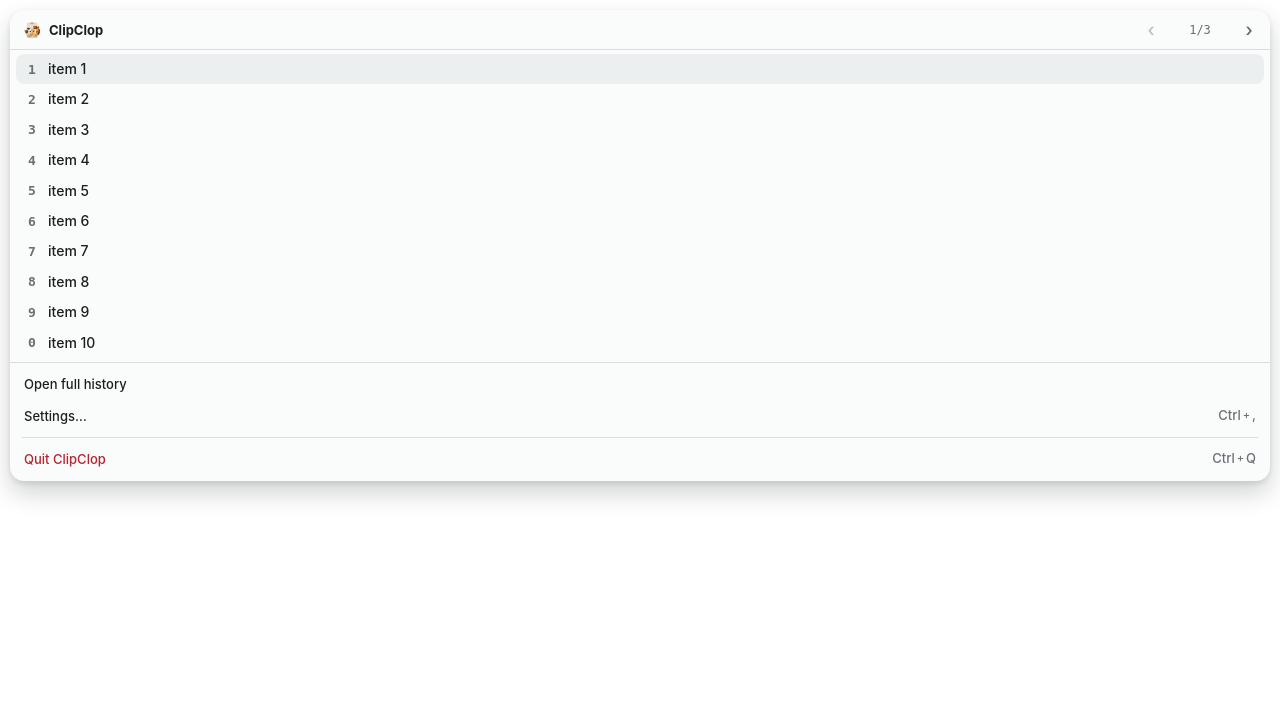
Test: QuickPanel pagination › pages through 23 items and leaves seven inert slots on the last page
Check: the text "item 1" is shown, box x1=48 y1=58 x2=86 y2=80
Click the button named "Next page". click: (1249, 30)
box: x1=1236 y1=16 x2=1262 y2=42
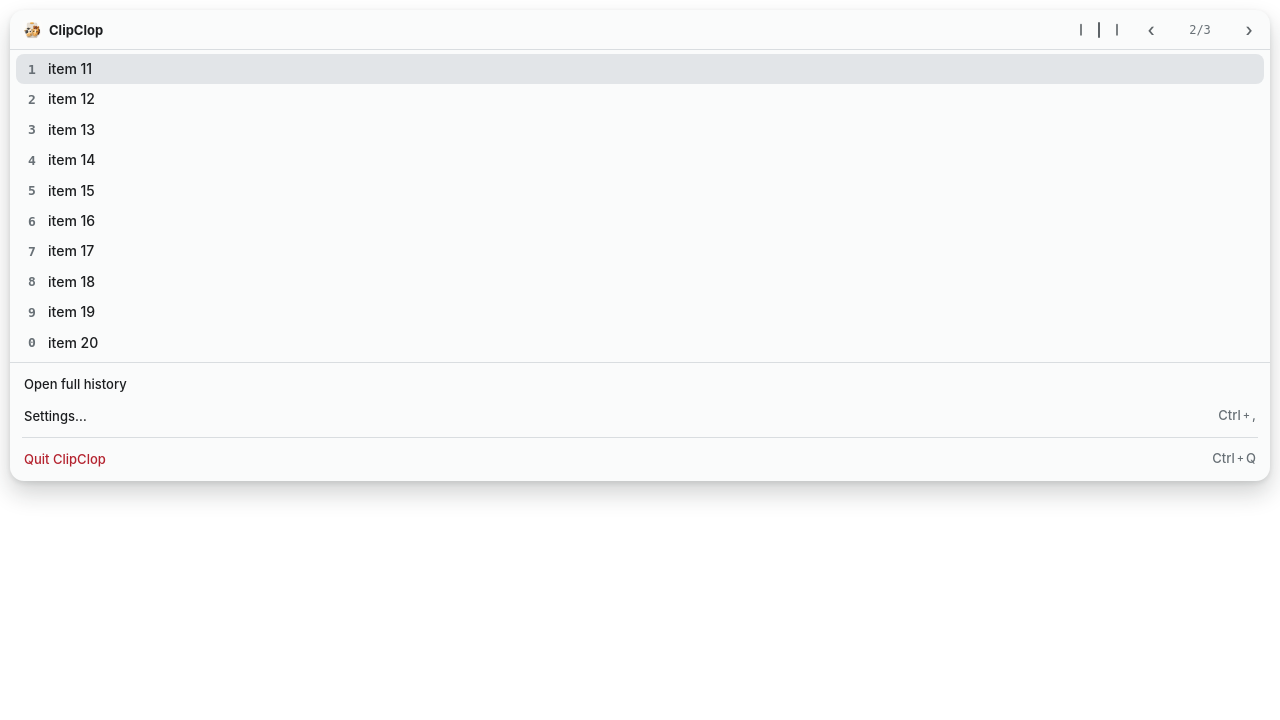
Check: the text "item 11" is shown, box x1=48 y1=58 x2=92 y2=80
Check: the text "2/3" is shown, box x1=1189 y1=22 x2=1211 y2=36
Click the button named "Next page". click: (1249, 30)
box: x1=1236 y1=16 x2=1262 y2=42
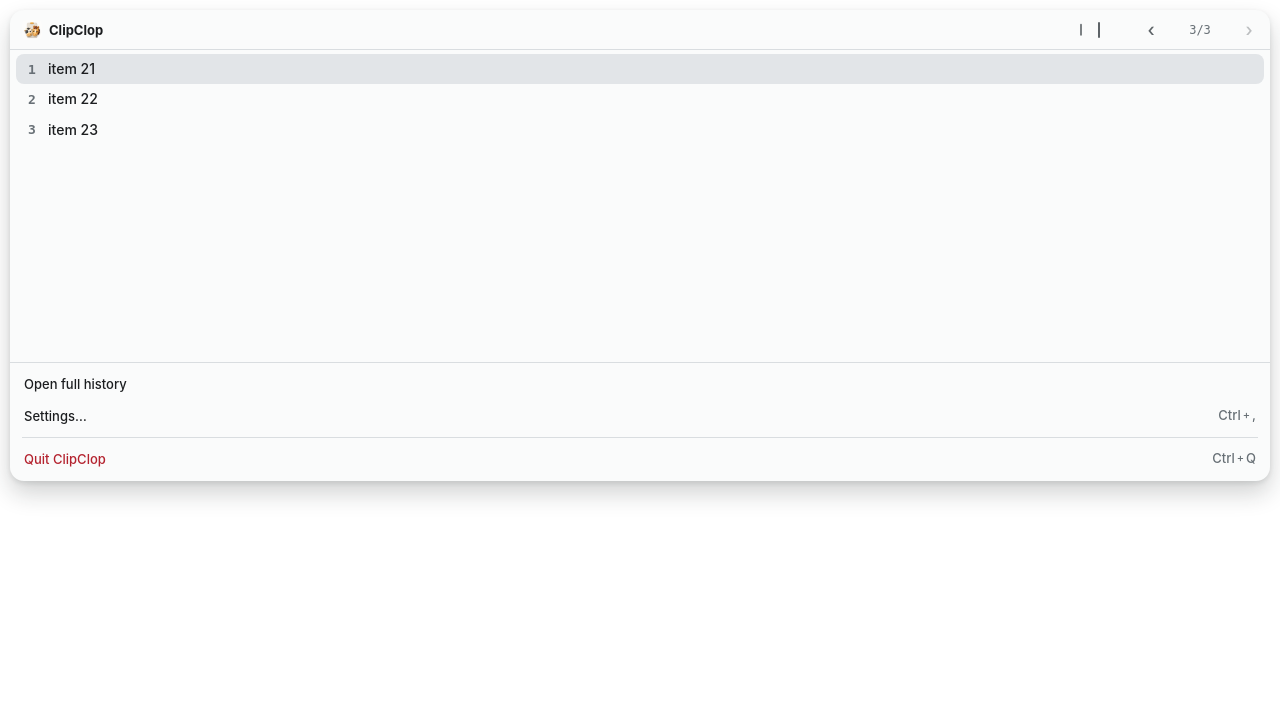
Check: the text "item 21" is shown, box x1=48 y1=58 x2=95 y2=80
Check: the number of elements with class "empty-slot" is 7
Check: the text "3/3" is shown, box x1=1189 y1=22 x2=1211 y2=36
